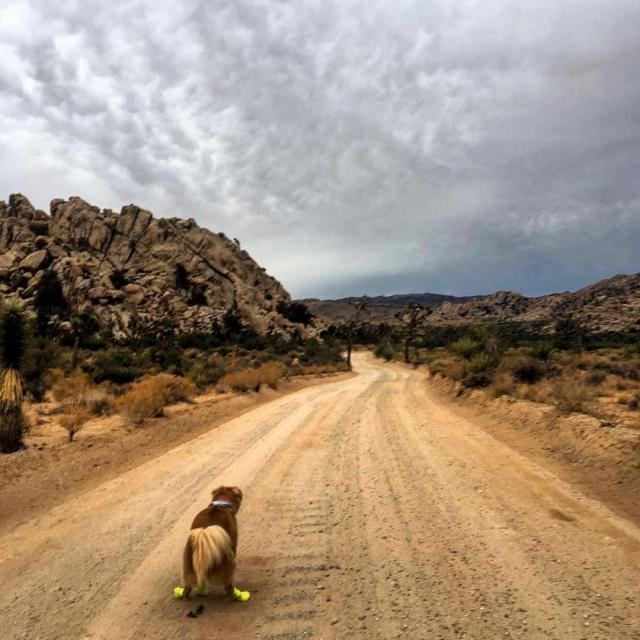squatting: (170, 480, 257, 607)
